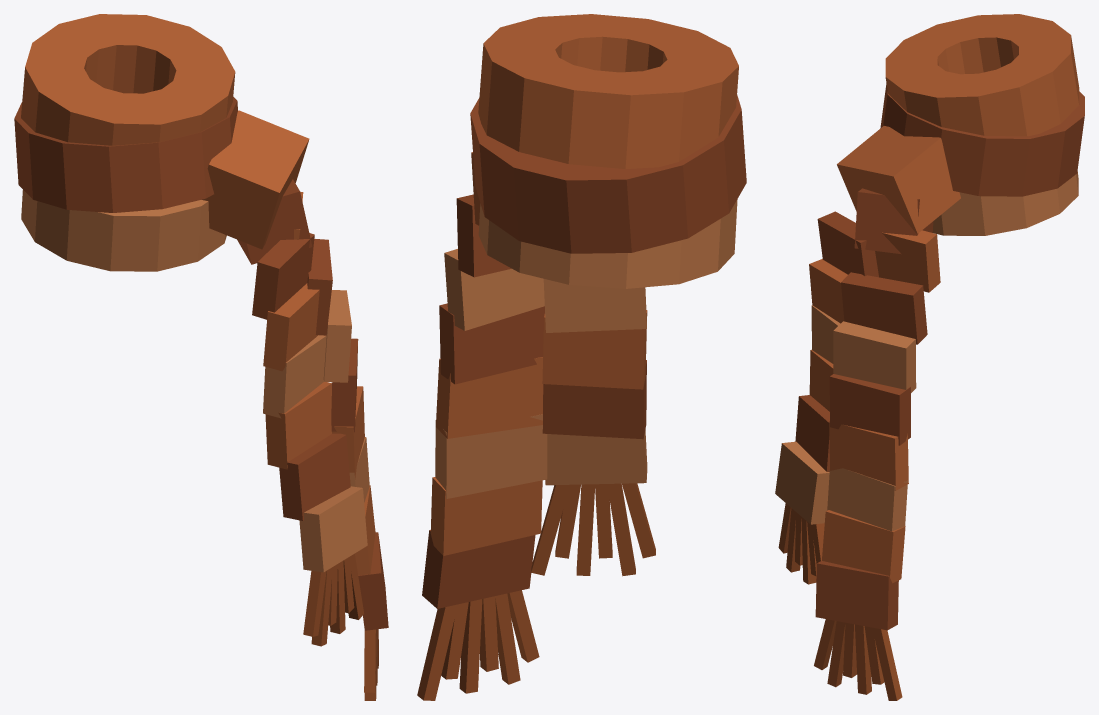
Rendered from rescue_keeper_scarf.glb.
3 renders of one model, left to right at view 1: azimuth 30°, elevation 25°; view 2: azimuth 150°, elevation 25°; view 3: azimuth 270°, elevation 25°, orthographic. The views are drawn at different scales.
Parts seen in each view (by area): view 1: Body; view 2: Body; view 3: Body.
Boxes of the visible parts, x1=… form: Body: x1=14, y1=14, x2=388, y2=700; Body: x1=417, y1=14, x2=746, y2=700; Body: x1=775, y1=14, x2=1084, y2=700.
Size of the model in its own units: 1.09 by 2.15 by 1.06.
